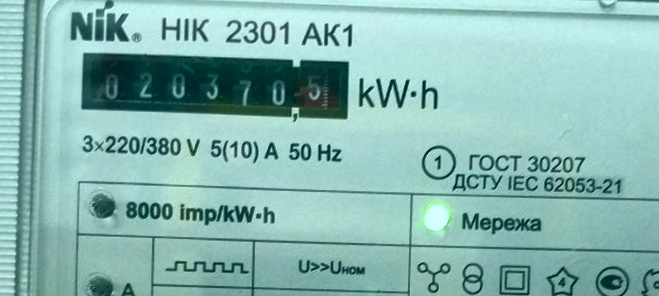0: (269, 78, 288, 108), (102, 71, 120, 100), (170, 71, 186, 99)
2: (136, 70, 155, 101)
3: (203, 71, 220, 101)
5: (305, 72, 324, 103)
7: (236, 78, 252, 108)
screen: (74, 46, 358, 129)
